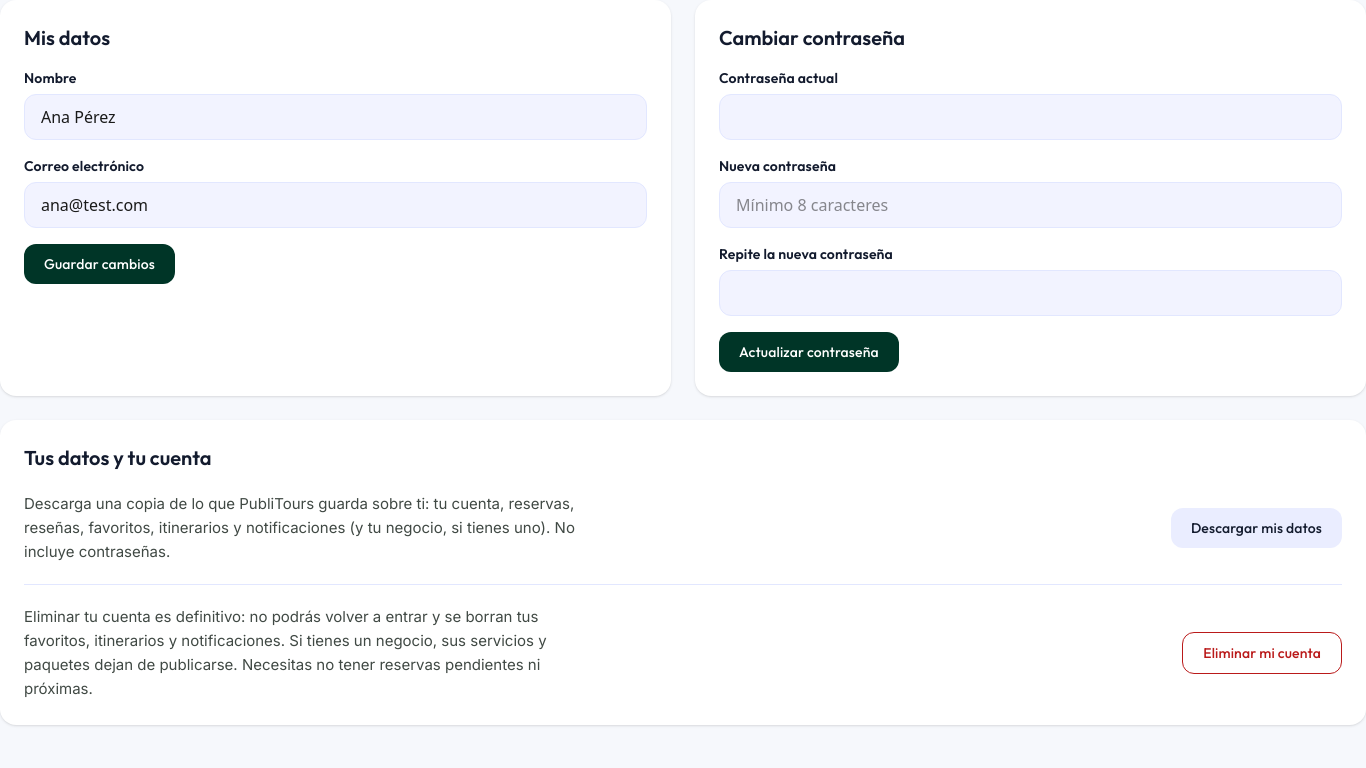
Scenario: MisDatos › guarda los datos y actualiza la sesión
The image size is (1366, 768).
Replace the text in the field showing "Ana Pérez" with "Ana María". click: {"x": 336, "y": 117}
box: [24,94,647,140]
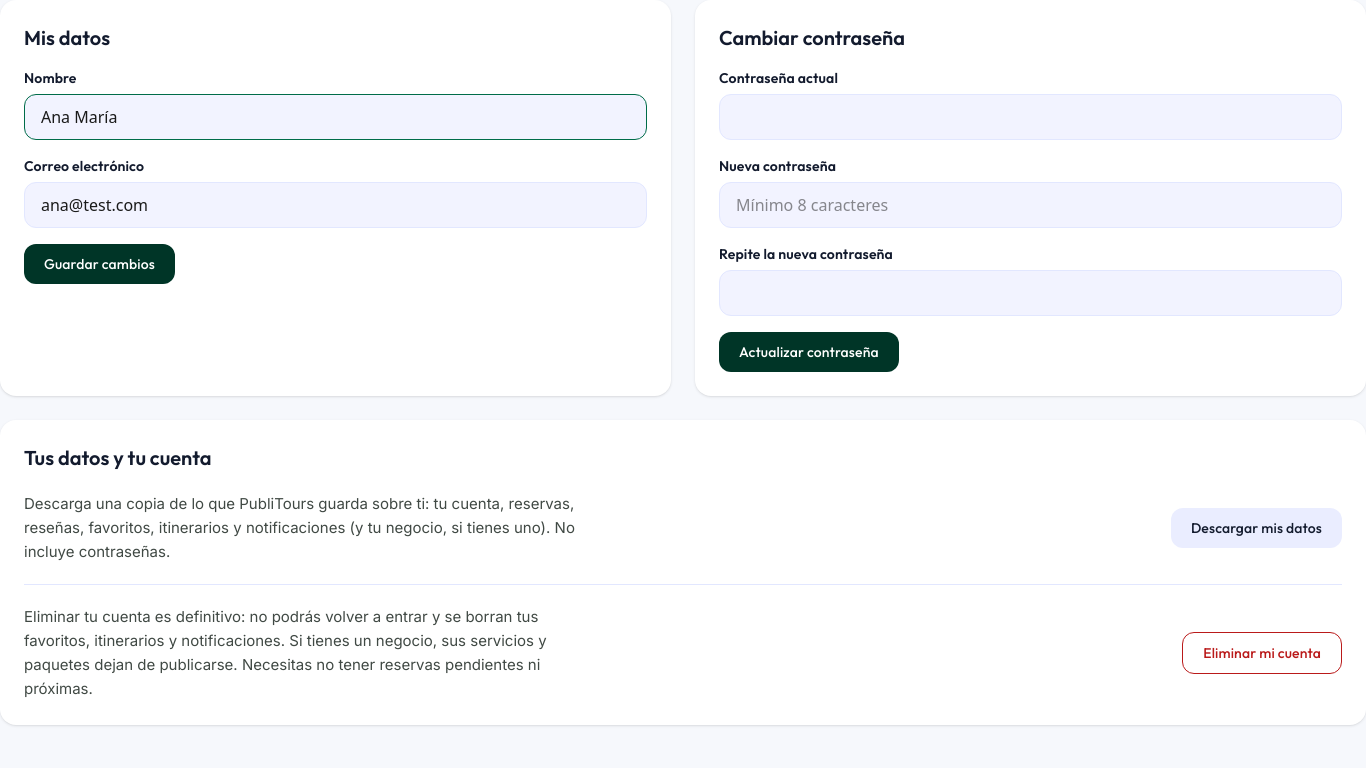
Click the button "Guardar cambios". click: {"x": 99, "y": 264}
box: [24,244,175,284]
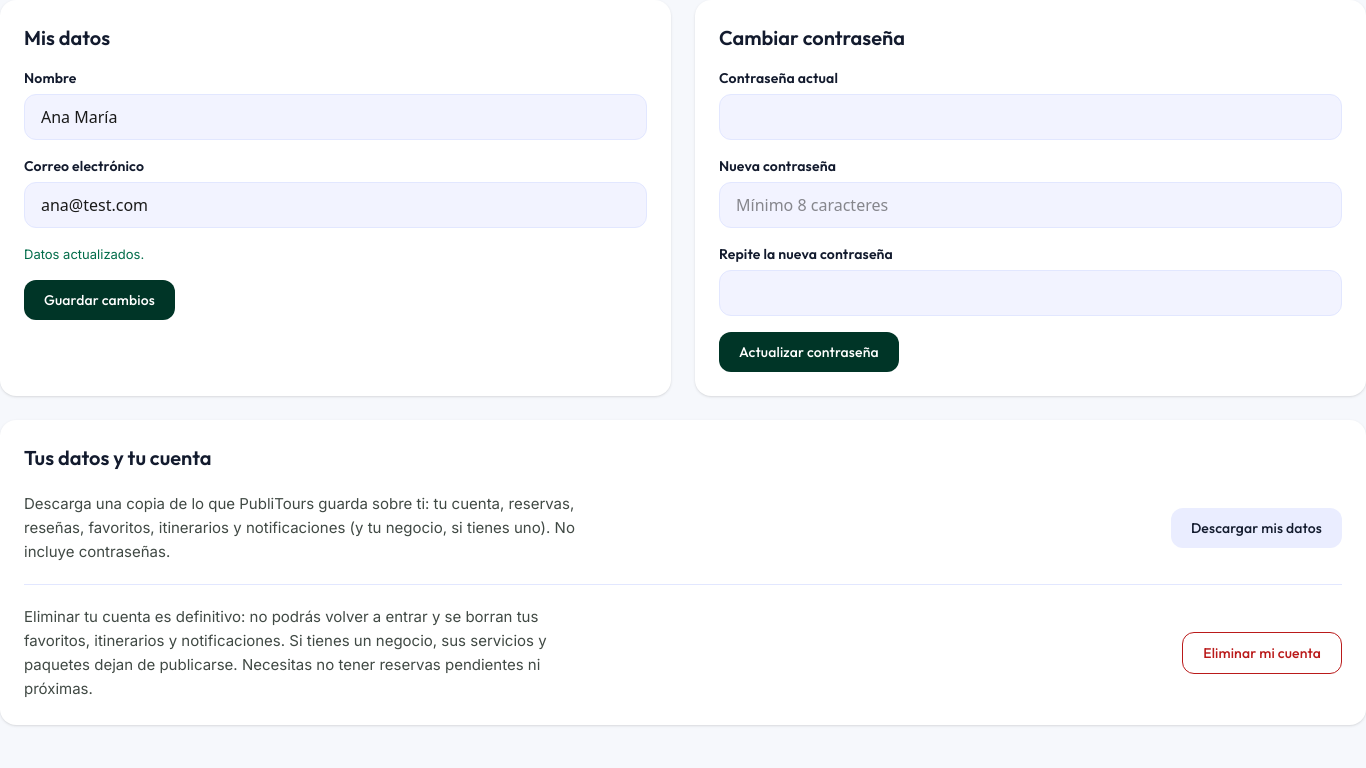
Check: the text "Datos actualizados." is shown, box [24,246,144,262]
